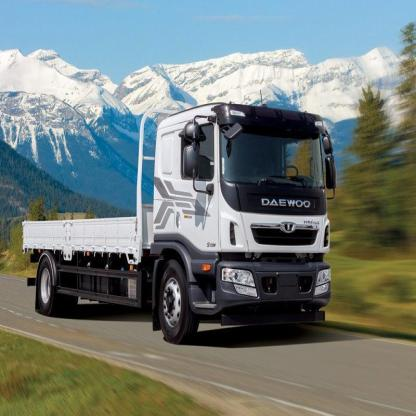Truck: (16, 107, 339, 344)
